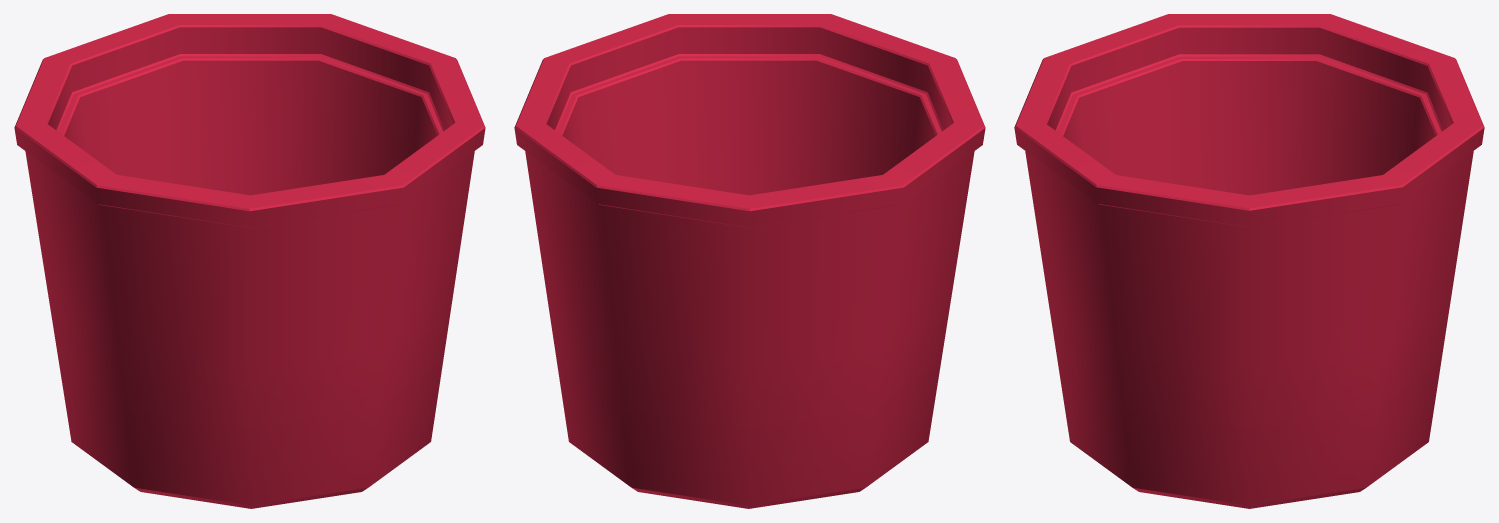
File: WE01_Jetty_Bucket.fbx
The picture shows the model from 3 angles, left to right: view 1: azimuth 30°, elevation 25°; view 2: azimuth 150°, elevation 25°; view 3: azimuth 270°, elevation 25°; orthographic projection.
Parts seen in each view (by area): view 1: Bucket; view 2: Bucket; view 3: Bucket.
Boxes of the visible parts, bbox=[...] form: Bucket: bbox=[14, 14, 485, 508]; Bucket: bbox=[514, 14, 985, 508]; Bucket: bbox=[1014, 14, 1484, 508].
Size of the model in its own units: 2.56 by 2 by 2.6.
